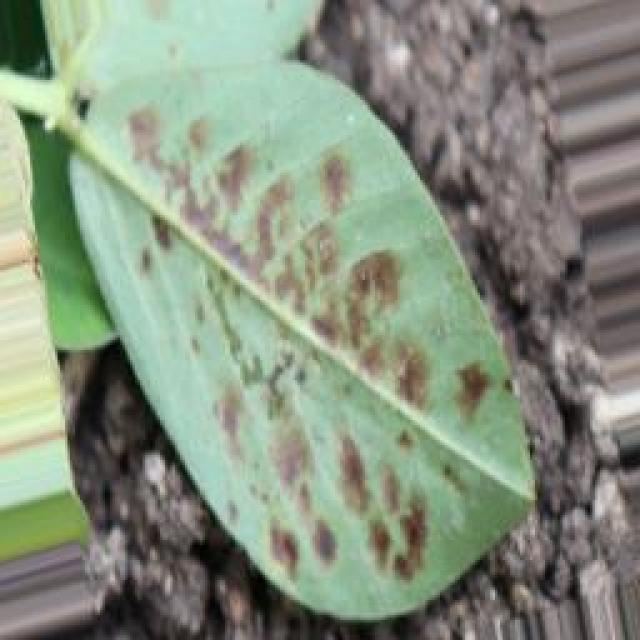Whitefly: (87, 61, 544, 598)
